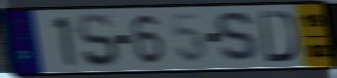1: (51, 15, 78, 68)
5: (169, 12, 209, 65)
6: (130, 13, 166, 66)
D: (258, 10, 300, 64)
S: (213, 10, 265, 66), (75, 12, 121, 69)
